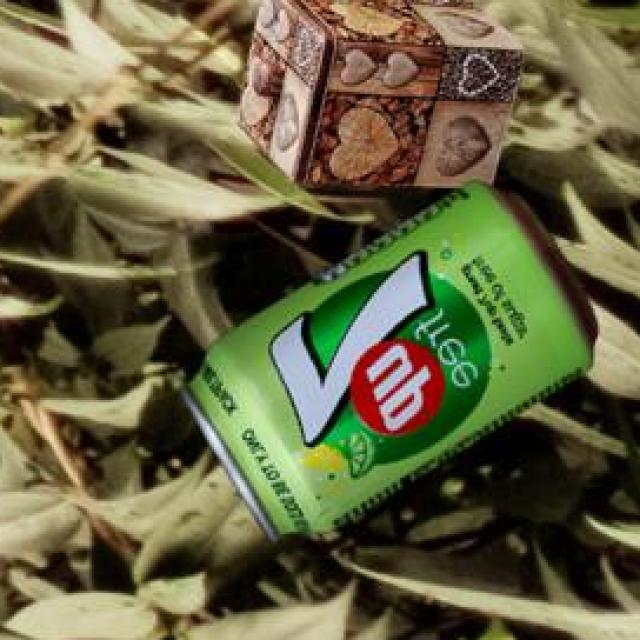logam: (178, 185, 594, 545), (234, 0, 521, 192)
